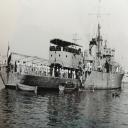Fragata: (1, 6, 127, 91)
